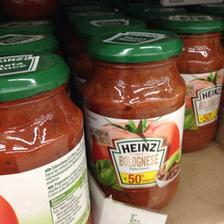Tomatensauce: (80, 27, 186, 209), (0, 49, 92, 223)
